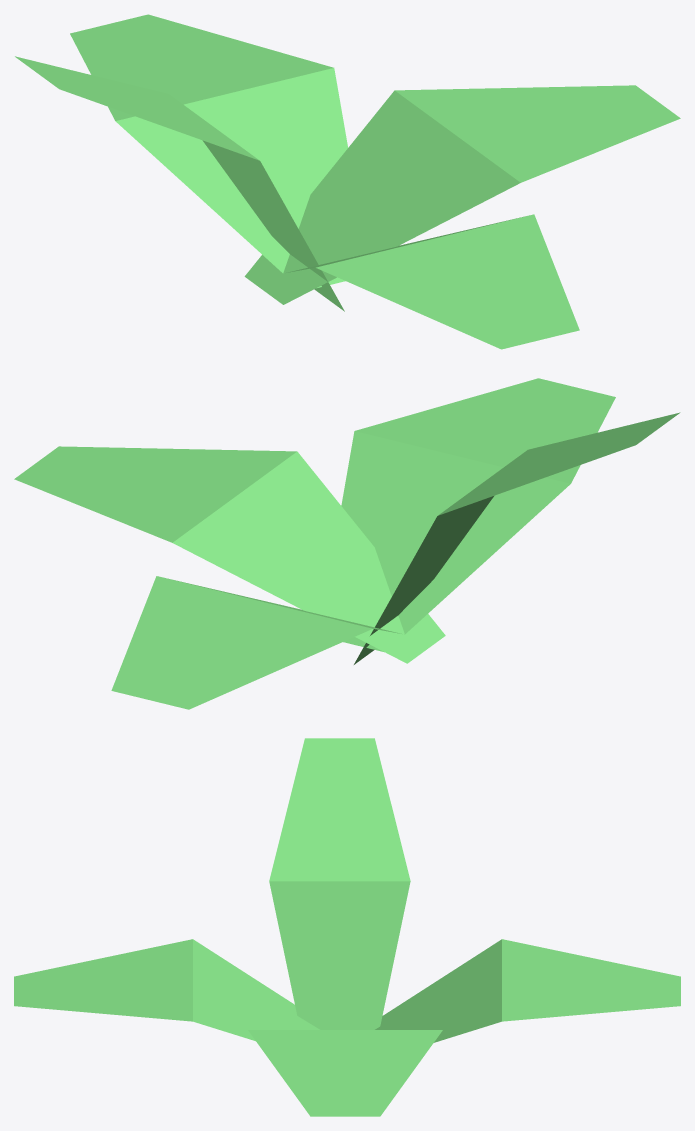
Rendered from plant.glb.
3 renders of one model, top to bottom at view 1: azimuth 30°, elevation 25°; view 2: azimuth 150°, elevation 25°; view 3: azimuth 270°, elevation 25°, orthographic. The views are drawn at different scales.
Parts seen in each view (by area): view 1: Plane; view 2: Plane; view 3: Plane.
Part boxes in pixels (x1=…): Plane: x1=15, y1=14, x2=680, y2=349; Plane: x1=14, y1=378, x2=680, y2=709; Plane: x1=14, y1=738, x2=680, y2=1116.
Size of the model in its own units: 5.71 by 2.58 by 6.83.
